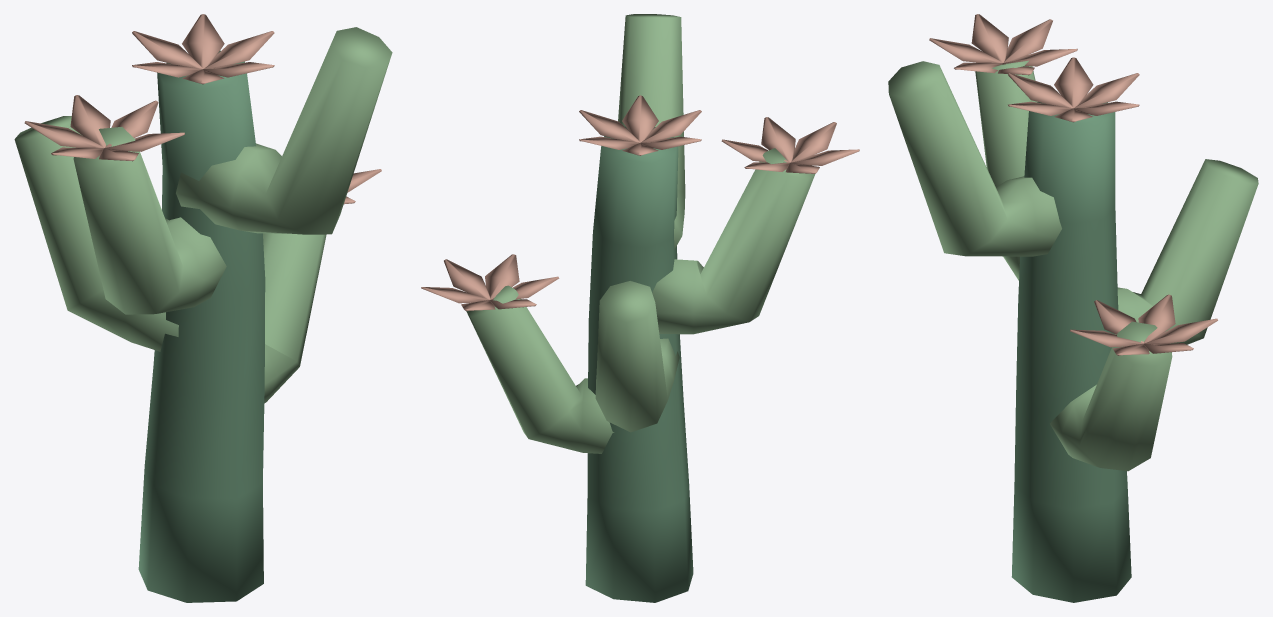
Rendered from cactus_branching.glb.
3 views of the same model, side by side, from view 1: azimuth 30°, elevation 25°; view 2: azimuth 150°, elevation 25°; view 3: azimuth 270°, elevation 25° (orthographic). The views are drawn at different scales.
Parts seen in each view (by area): view 1: cactus_branching; view 2: cactus_branching; view 3: cactus_branching.
Boxes of the visible parts, x1=… form: cactus_branching: x1=14, y1=14, x2=392, y2=602; cactus_branching: x1=421, y1=14, x2=859, y2=602; cactus_branching: x1=888, y1=14, x2=1258, y2=602.
Bounding box in the file's own units: 2.18 × 3 × 1.86.
